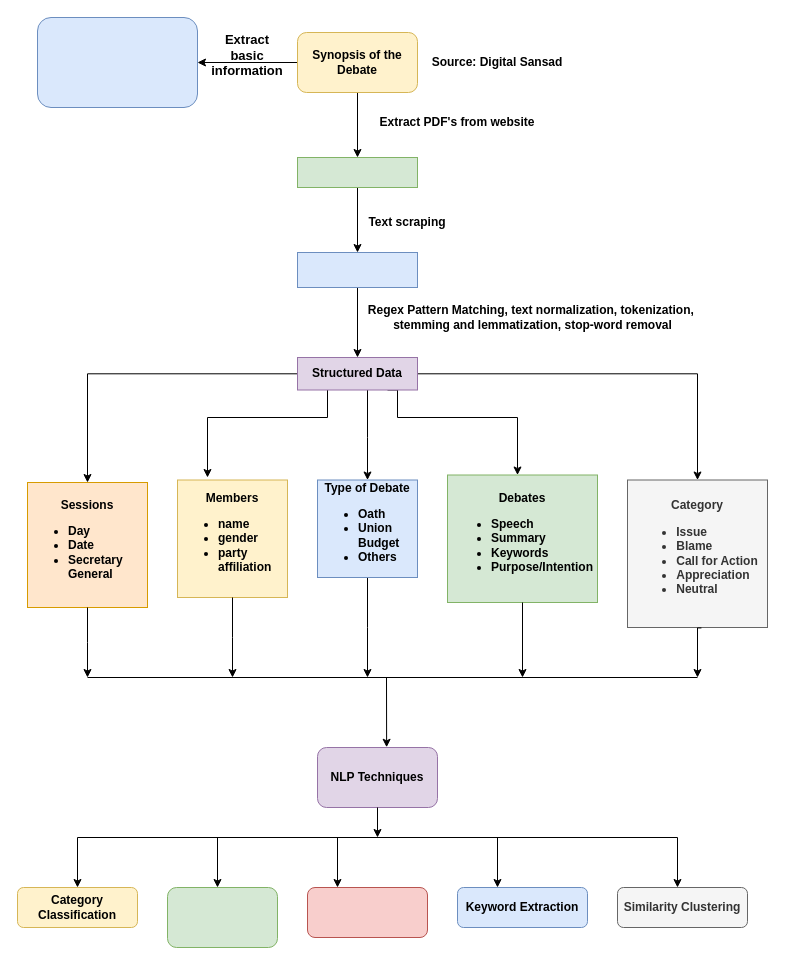
The diagram is 785 pixels wide and 965 high, and some of its shapes have lost their labels. Here are the shapes that lost their labels. From the top down, the centre of each, then its label:
At (x=117, y=62): "Speaker Speech Date and Day Type of Debate".
At (x=357, y=172): "PDF Files".
At (x=357, y=270): "Unstructured Data".
At (x=222, y=917): "Gender Representation Analysis".
At (x=367, y=912): "Sentiment Analysis".
